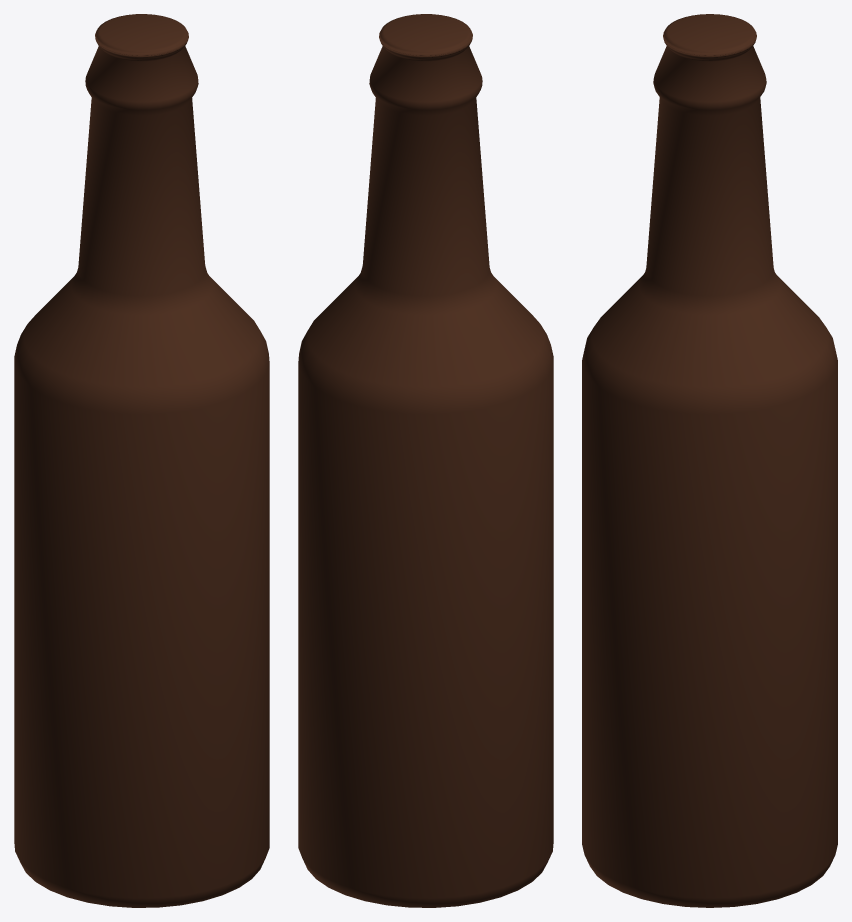
Rendered from bottle.fbx.
3 views of the same model, side by side, from view 1: azimuth 30°, elevation 25°; view 2: azimuth 150°, elevation 25°; view 3: azimuth 270°, elevation 25° (orthographic).
Parts seen in each view (by area): view 1: Cylinder; view 2: Cylinder; view 3: Cylinder.
Boxes of the visible parts, x1,y1,x2,y2 form: Cylinder: (14,14,269,907); Cylinder: (298,14,553,907); Cylinder: (582,14,837,907).
Bounding box in the file's own units: 18.51 × 66.15 × 18.51.
